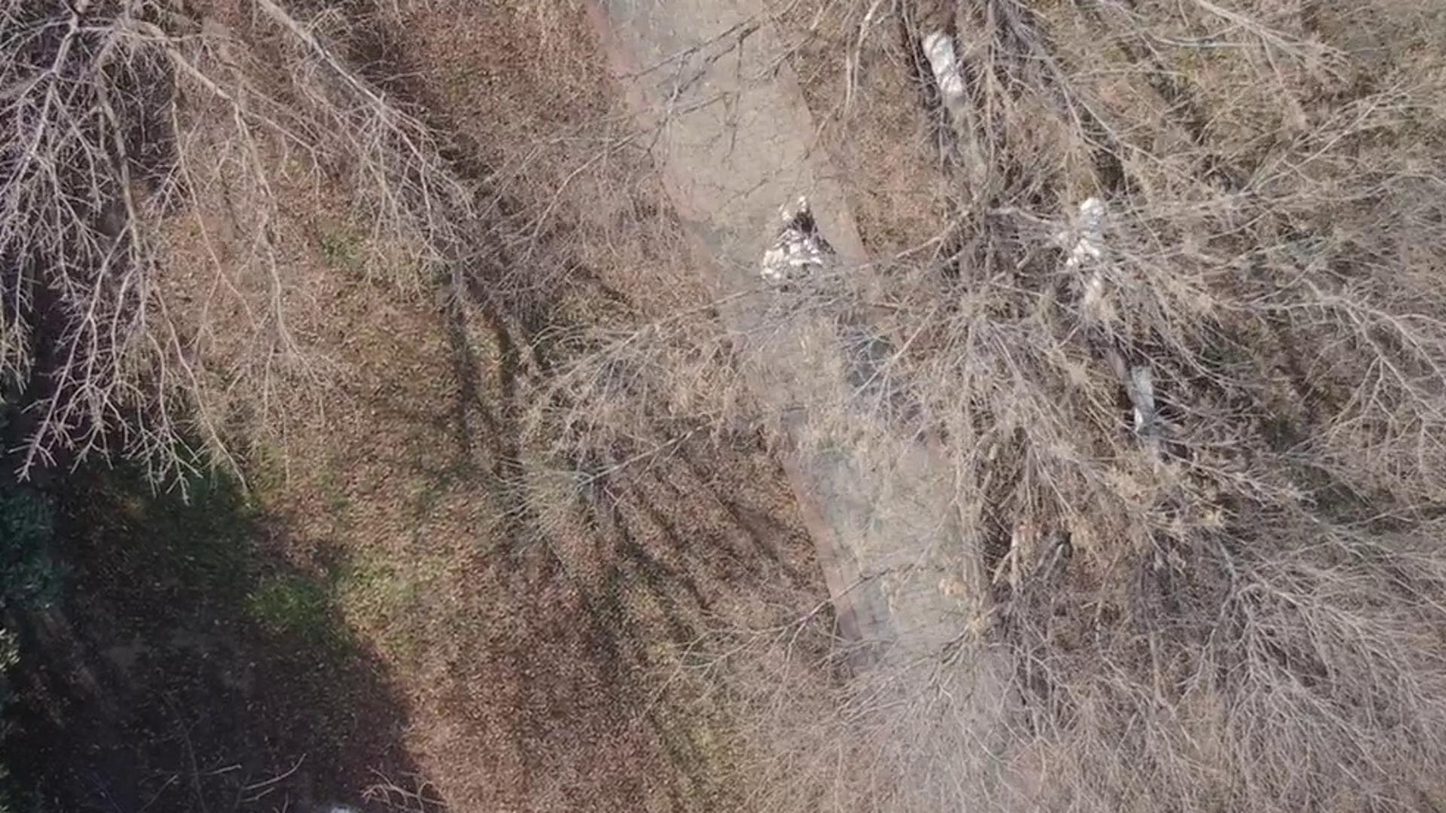human: (728, 185, 793, 297)
